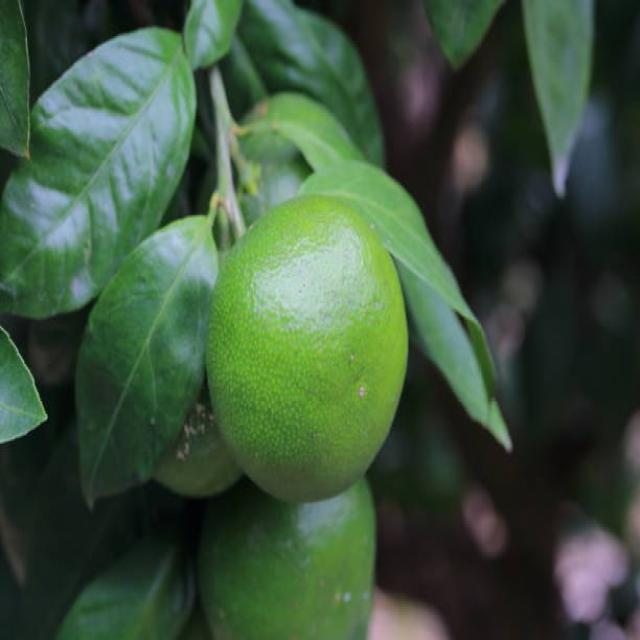Unripe: (204, 194, 409, 500)
